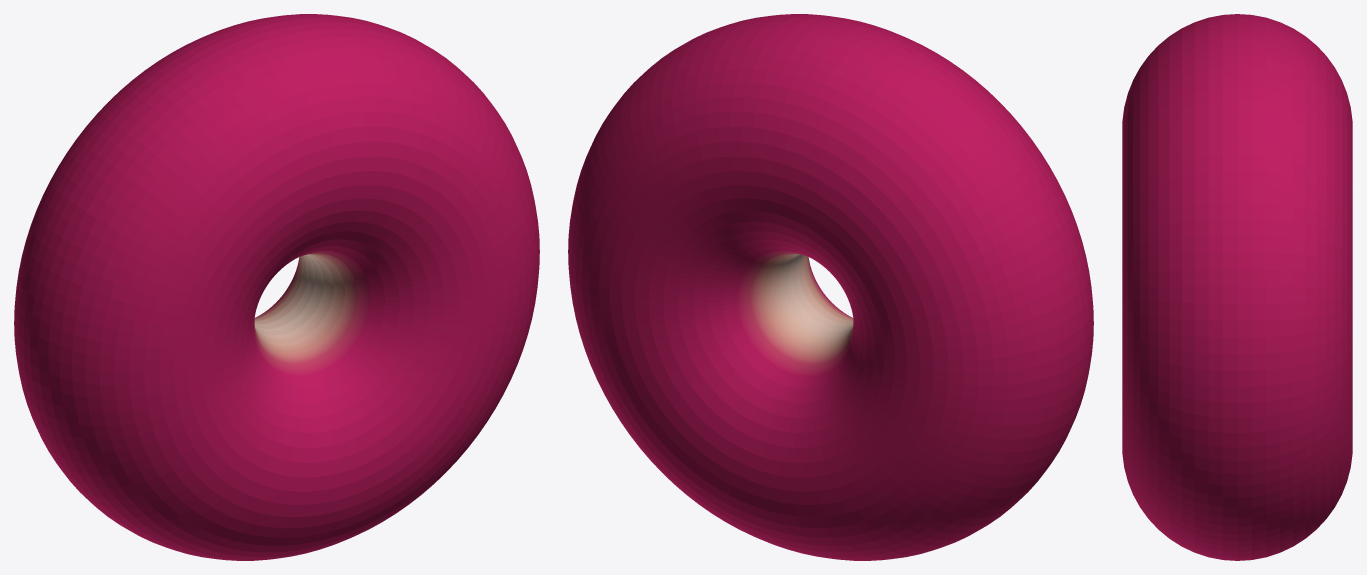
3 renders of one model, left to right at view 1: azimuth 30°, elevation 25°; view 2: azimuth 150°, elevation 25°; view 3: azimuth 270°, elevation 25°, orthographic. The views are drawn at different scales.
Parts seen in each view (by area): view 1: world; view 2: world; view 3: world.
Boxes of the visible parts, x1,y1,x2,y2 form: world: (14, 14, 539, 560); world: (568, 14, 1093, 560); world: (1122, 14, 1352, 560).
Size of the model in its own units: 23.07 by 23.07 by 9.71.
